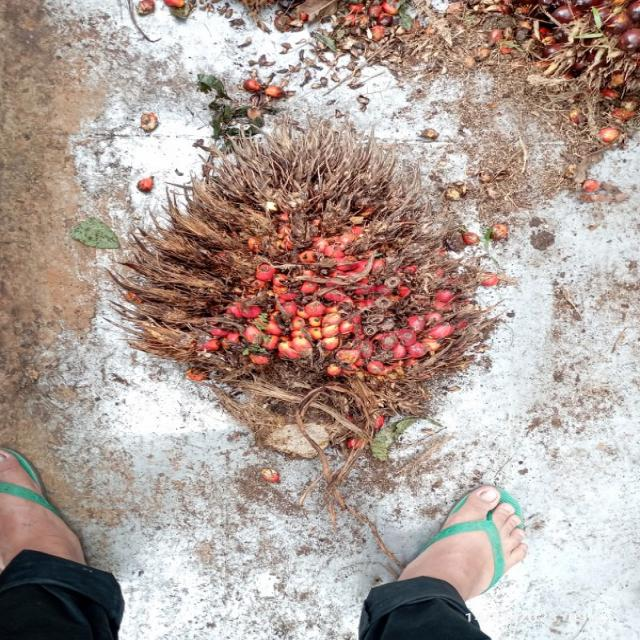fraksi 4: (78, 115, 527, 455)
